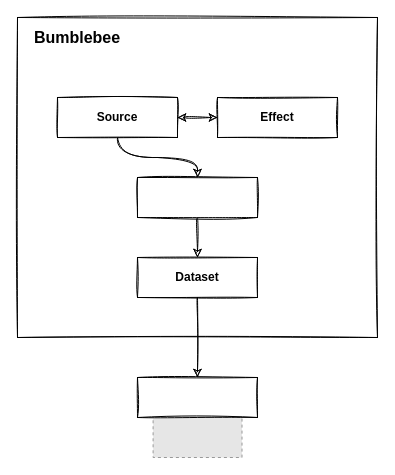
Some shapes in this 395 by 475 pixel diagram are drawn without their labels. Grey dashed boxes stand in for pictures. The shapes that lost their labels are listed below. From the top down, each one's centre as x and y in pixels, then its label:
At pixel 197 197: "Transformer".
At pixel 197 397: "Training Data".
